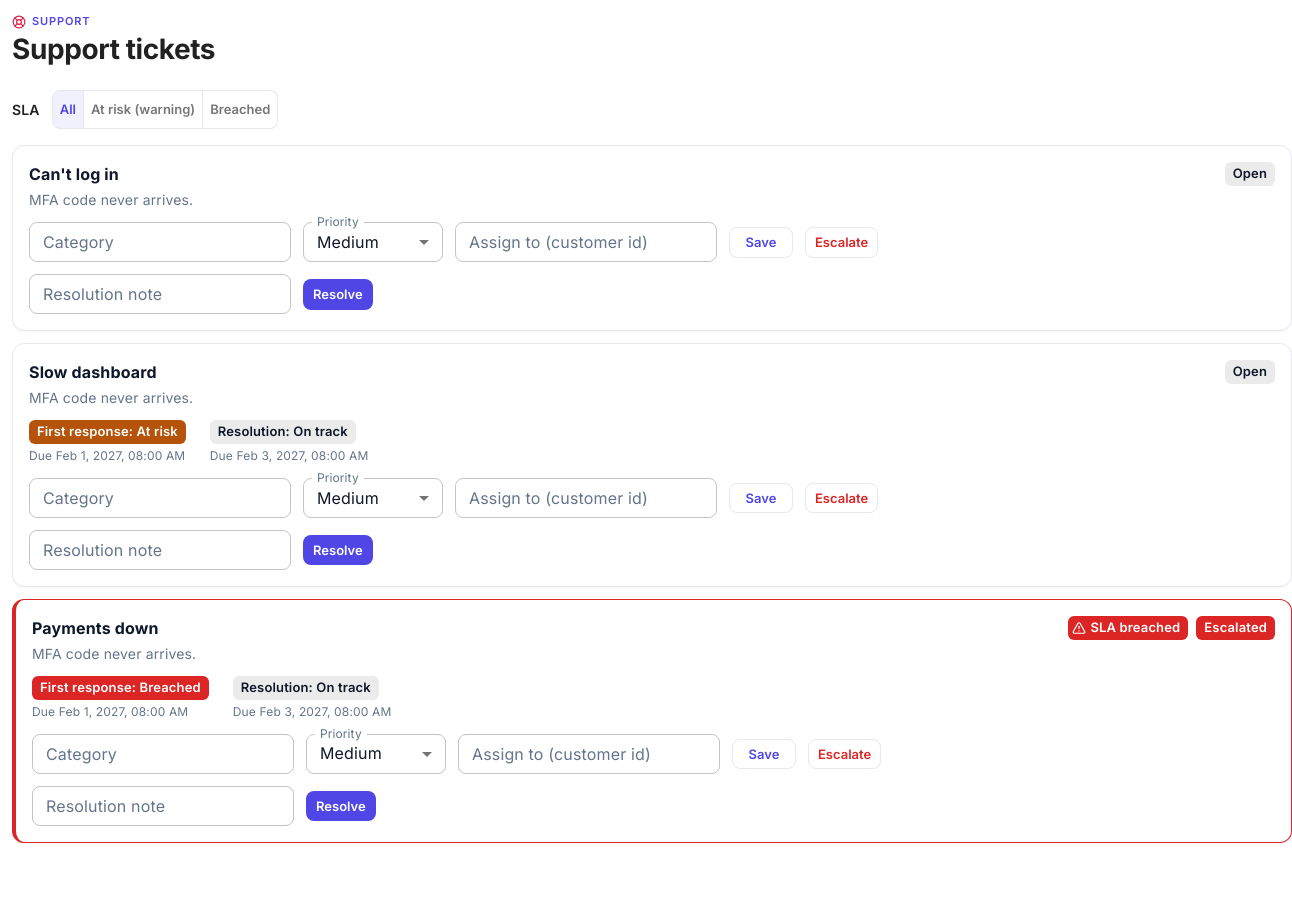
Scenario: AdminSupportTicketsPage › filters by SLA state
Expected: the text "Slow dashboard" is shown, top-left (29, 360), bottom-right (157, 384)
Click the button "At risk (warning)" at (143, 110), box top-left (83, 90), bottom-right (203, 129)
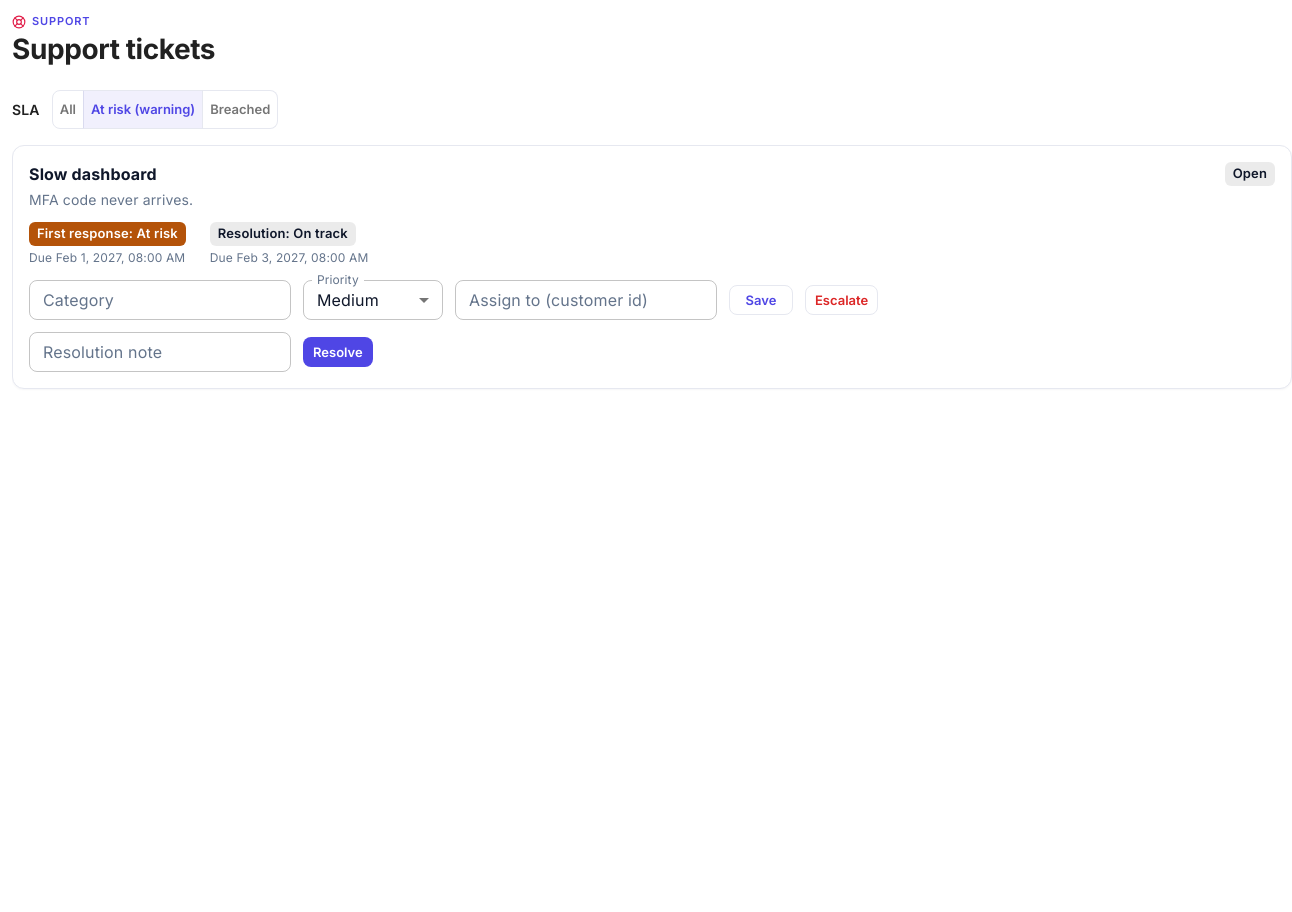
Expected: the text "Slow dashboard" is shown, top-left (29, 162), bottom-right (157, 186)
Result: the text "Payments down" is gone
Result: the text "Can't log in" is gone
Click the button "Breached" at (240, 110), box top-left (202, 90), bottom-right (278, 129)
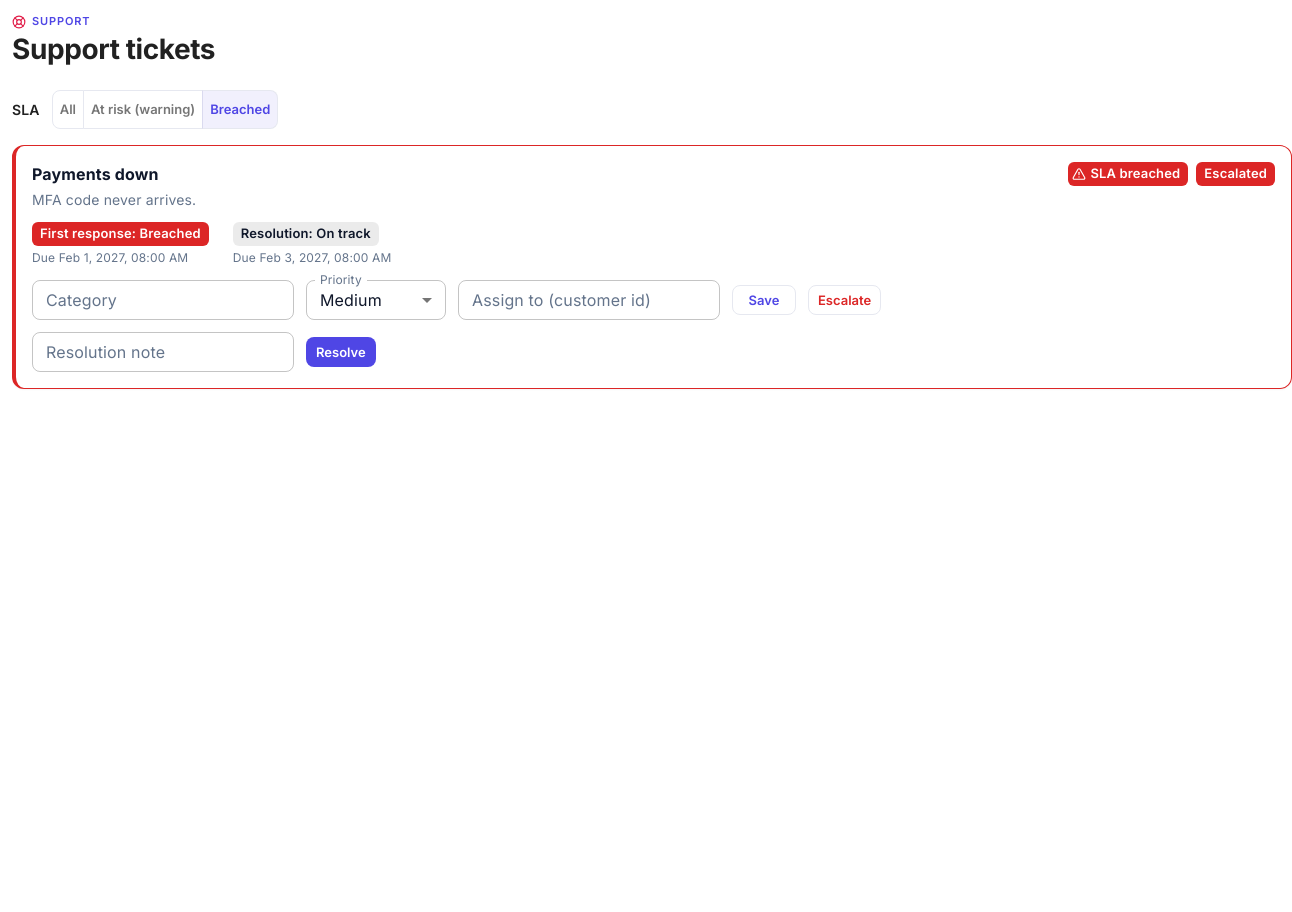
Result: the text "Payments down" is shown at top-left (32, 162), bottom-right (159, 186)
Result: the text "Slow dashboard" is gone
Click the button "All" at (68, 110), box top-left (52, 90), bottom-right (84, 129)
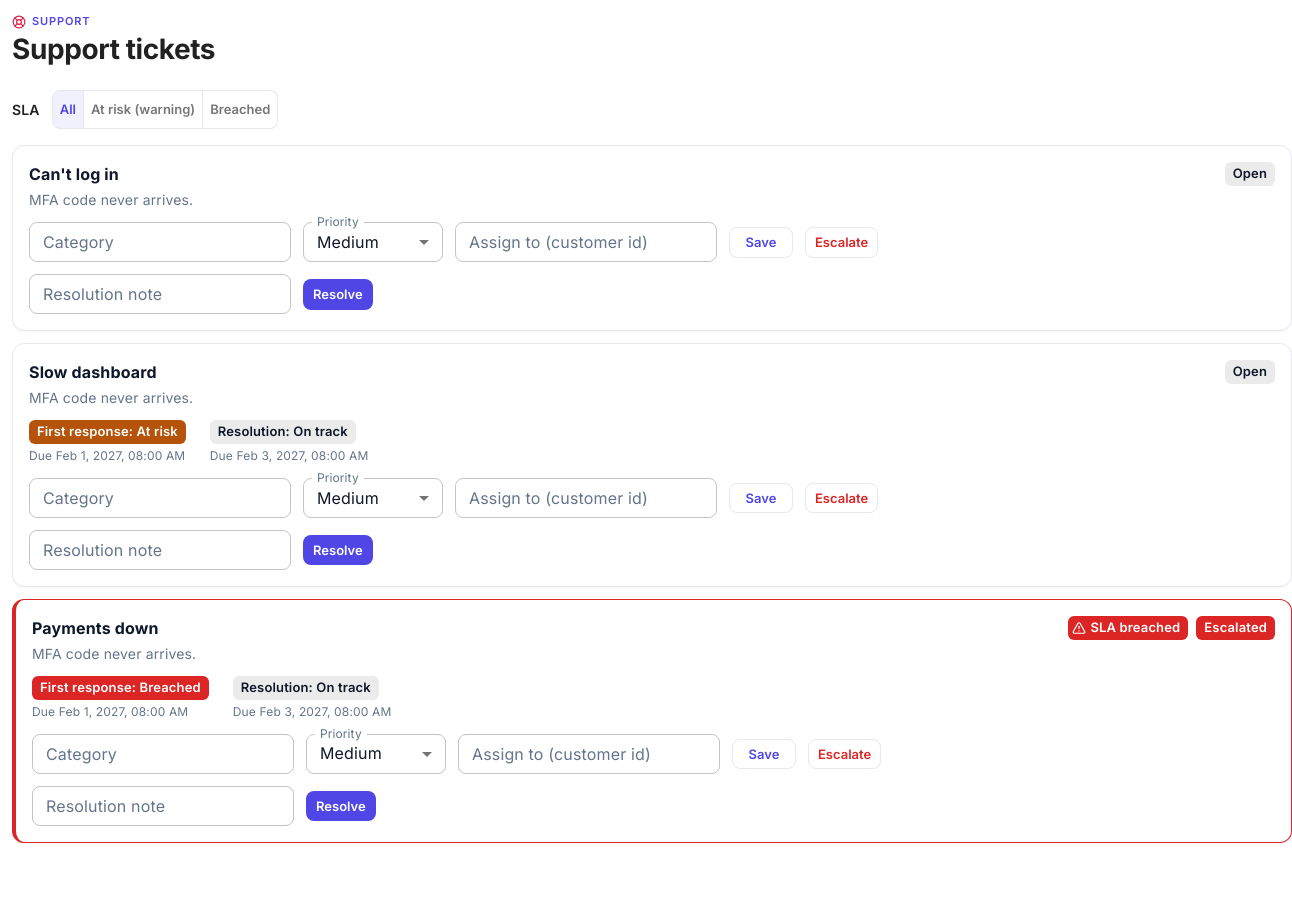
Result: the text "Can't log in" is shown 3 times at top-left (29, 162), bottom-right (119, 186); top-left (29, 360), bottom-right (157, 384); top-left (32, 616), bottom-right (159, 640)
